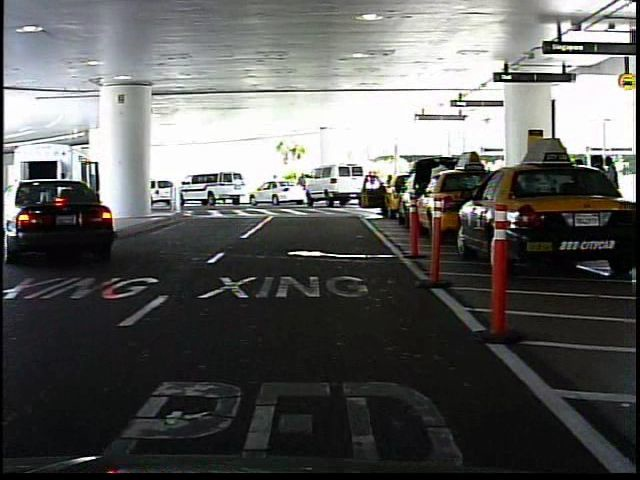person: (427, 156, 453, 227), (267, 172, 283, 201), (296, 170, 310, 202)
